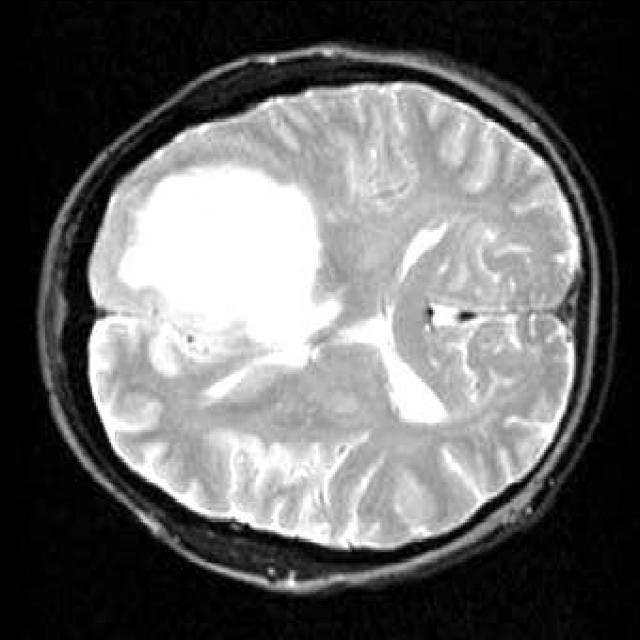tumor: (122, 167, 320, 358)
